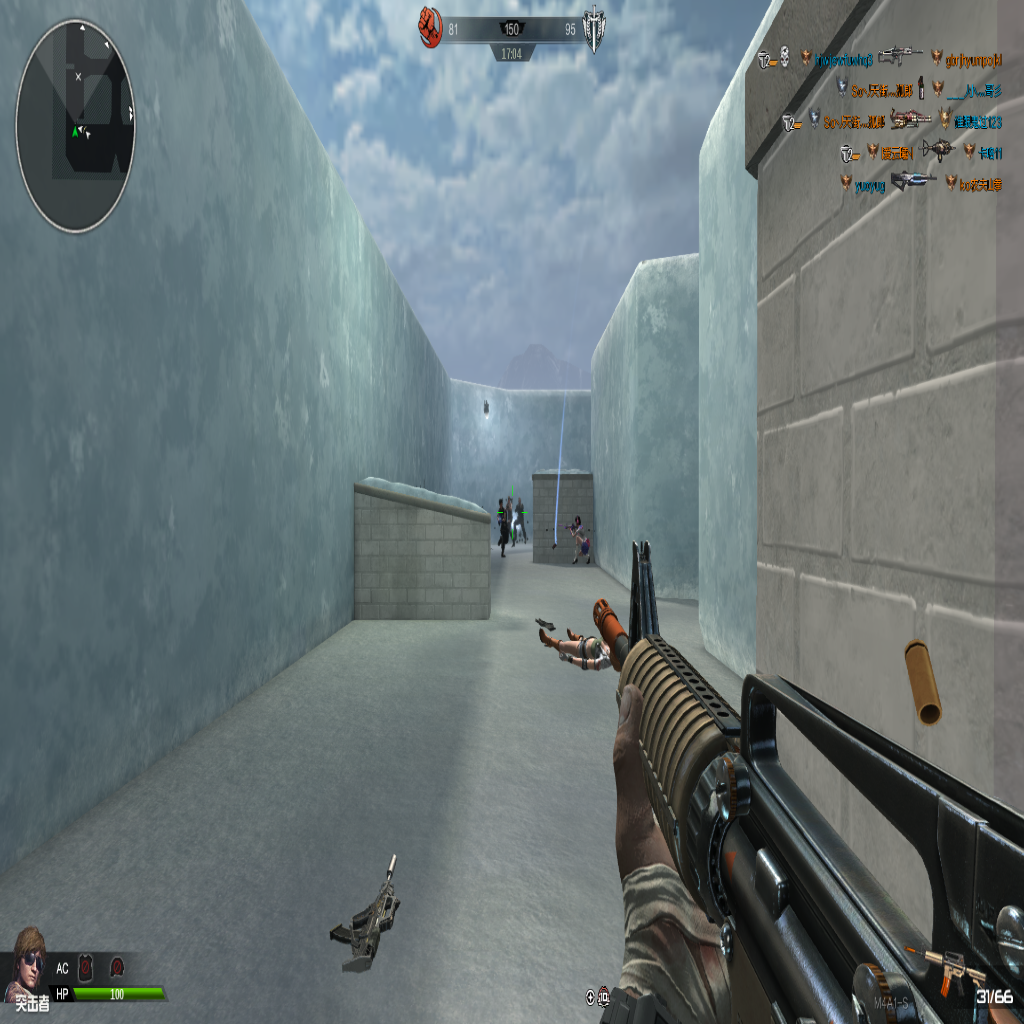ct: (495, 499, 508, 557), (514, 497, 529, 543), (503, 491, 513, 554)
